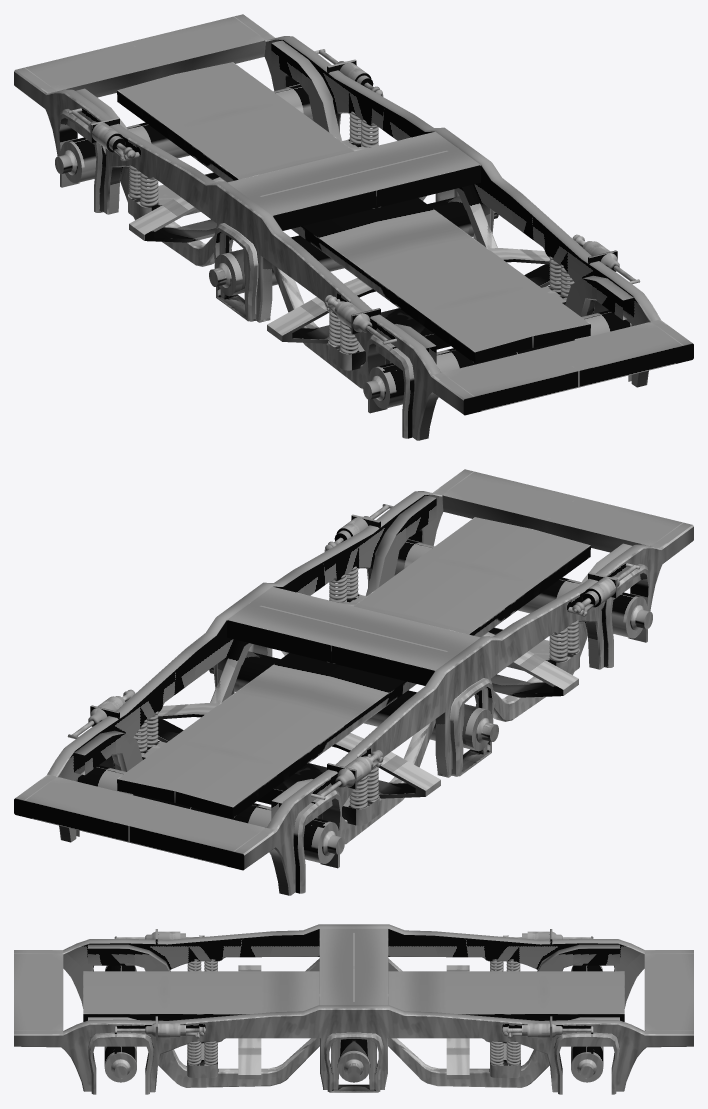
Rendered from truck.obj.
The picture shows the model from 3 angles, top to bottom: view 1: azimuth 30°, elevation 25°; view 2: azimuth 150°, elevation 25°; view 3: azimuth 270°, elevation 25°; orthographic projection. The views are drawn at different scales.
Visible parts, largest first — view 1: Plane.001; view 2: Plane.001; view 3: Plane.001.
Part boxes in pixels (x1=…): Plane.001: x1=14, y1=14, x2=693, y2=440; Plane.001: x1=14, y1=469, x2=693, y2=895; Plane.001: x1=14, y1=924, x2=693, y2=1094.
Bounding box in the file's own units: 11.27 × 4.01 × 29.6.
Materials: 1 (1 with a texture image).
